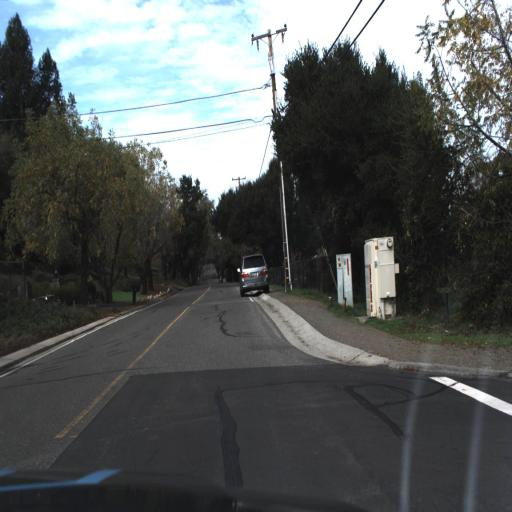car: (235, 246, 274, 294)
